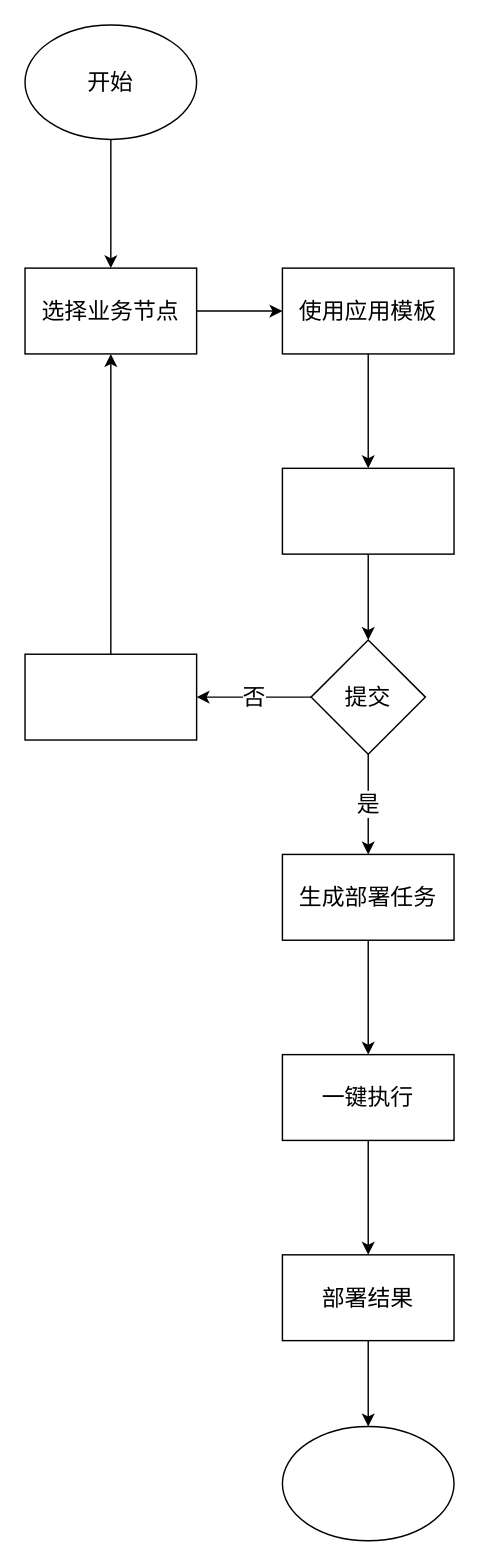
This 479x1566 diagram has some shape labels left out. Here are the shapes that lost their labels. From the top down, the centre of each, then its label:
At (367,510): "添加或删除应用".
At (110,696): "返回修改".
At (367,1483): "结束".
